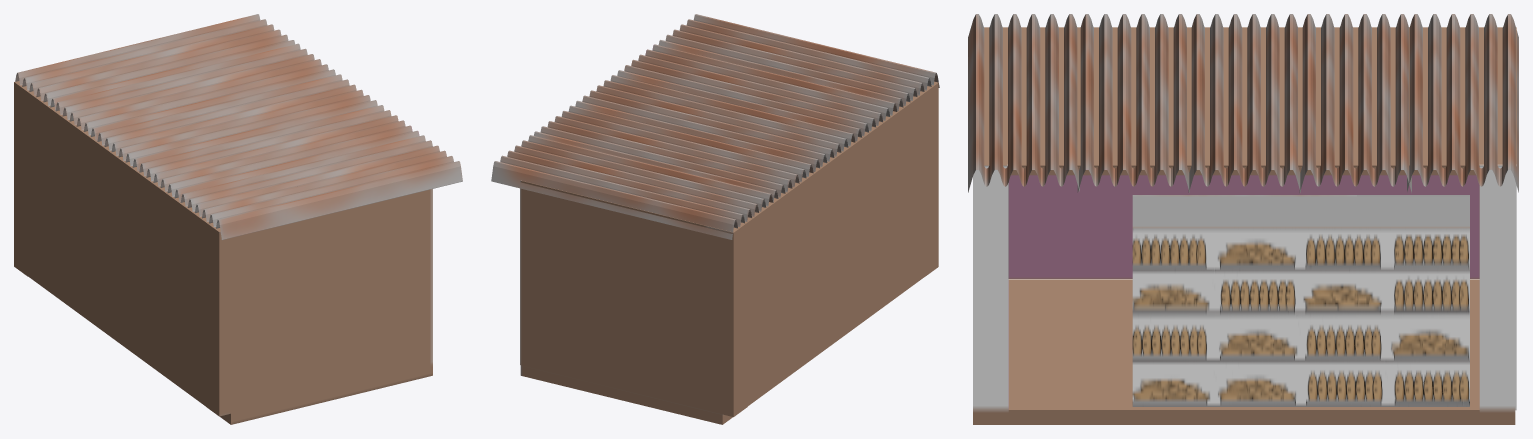
File: BAKERY.fbx
3 views of the same model, side by side, from view 1: azimuth 30°, elevation 25°; view 2: azimuth 150°, elevation 25°; view 3: azimuth 270°, elevation 25° (orthographic). The views are drawn at different scales.
Parts seen in each view (by area): view 1: bakery; view 2: bakery; view 3: bakery.
Part boxes in pixels (box(x1,y1,x2,y2)): bakery: box(14, 14, 462, 424); bakery: box(491, 14, 939, 424); bakery: box(968, 14, 1518, 424).
Size of the model in its own units: 1601 by 1304 by 2381.
1 material, 1 textured.
